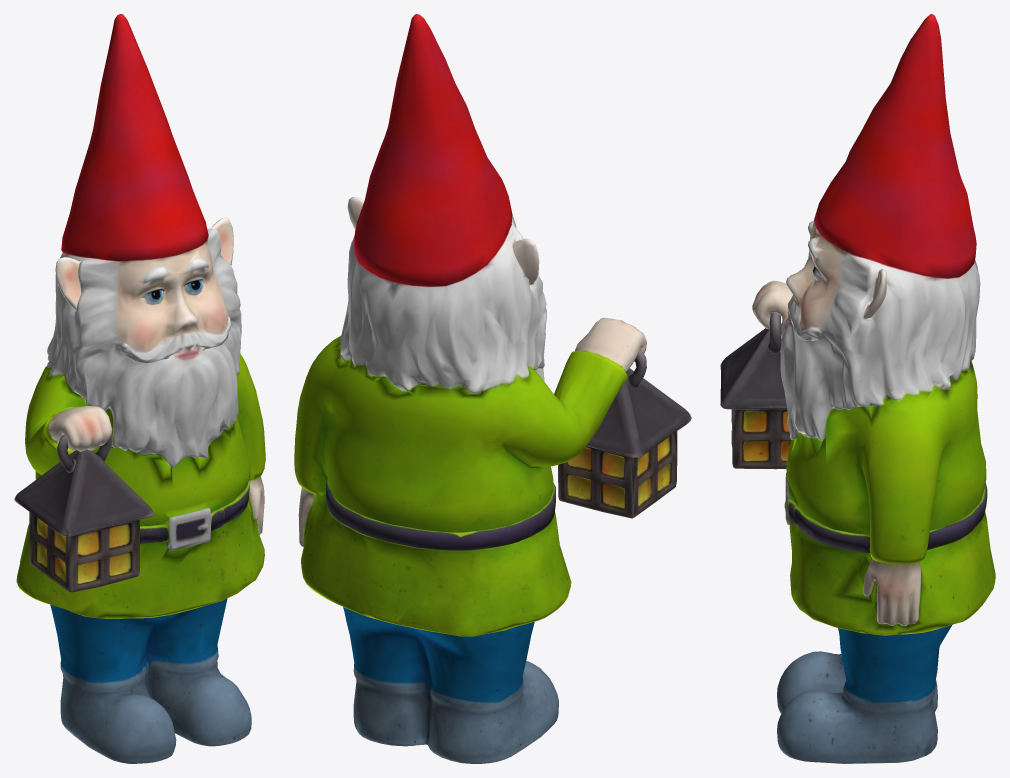
The model's file is garden_gnome.glb.
3 views of the same model, side by side, from view 1: azimuth 30°, elevation 25°; view 2: azimuth 150°, elevation 25°; view 3: azimuth 270°, elevation 25° (orthographic). The views are drawn at different scales.
Parts seen in each view (by area): view 1: garden_gnome; view 2: garden_gnome; view 3: garden_gnome.
Boxes of the visible parts, <box> form: garden_gnome: <box>14,14,265,763</box>; garden_gnome: <box>294,14,691,763</box>; garden_gnome: <box>720,14,995,763</box>.
Bounding box in the file's own units: 0.2577 × 0.5989 × 0.2097.
Materials: 1 (1 with a texture image).
